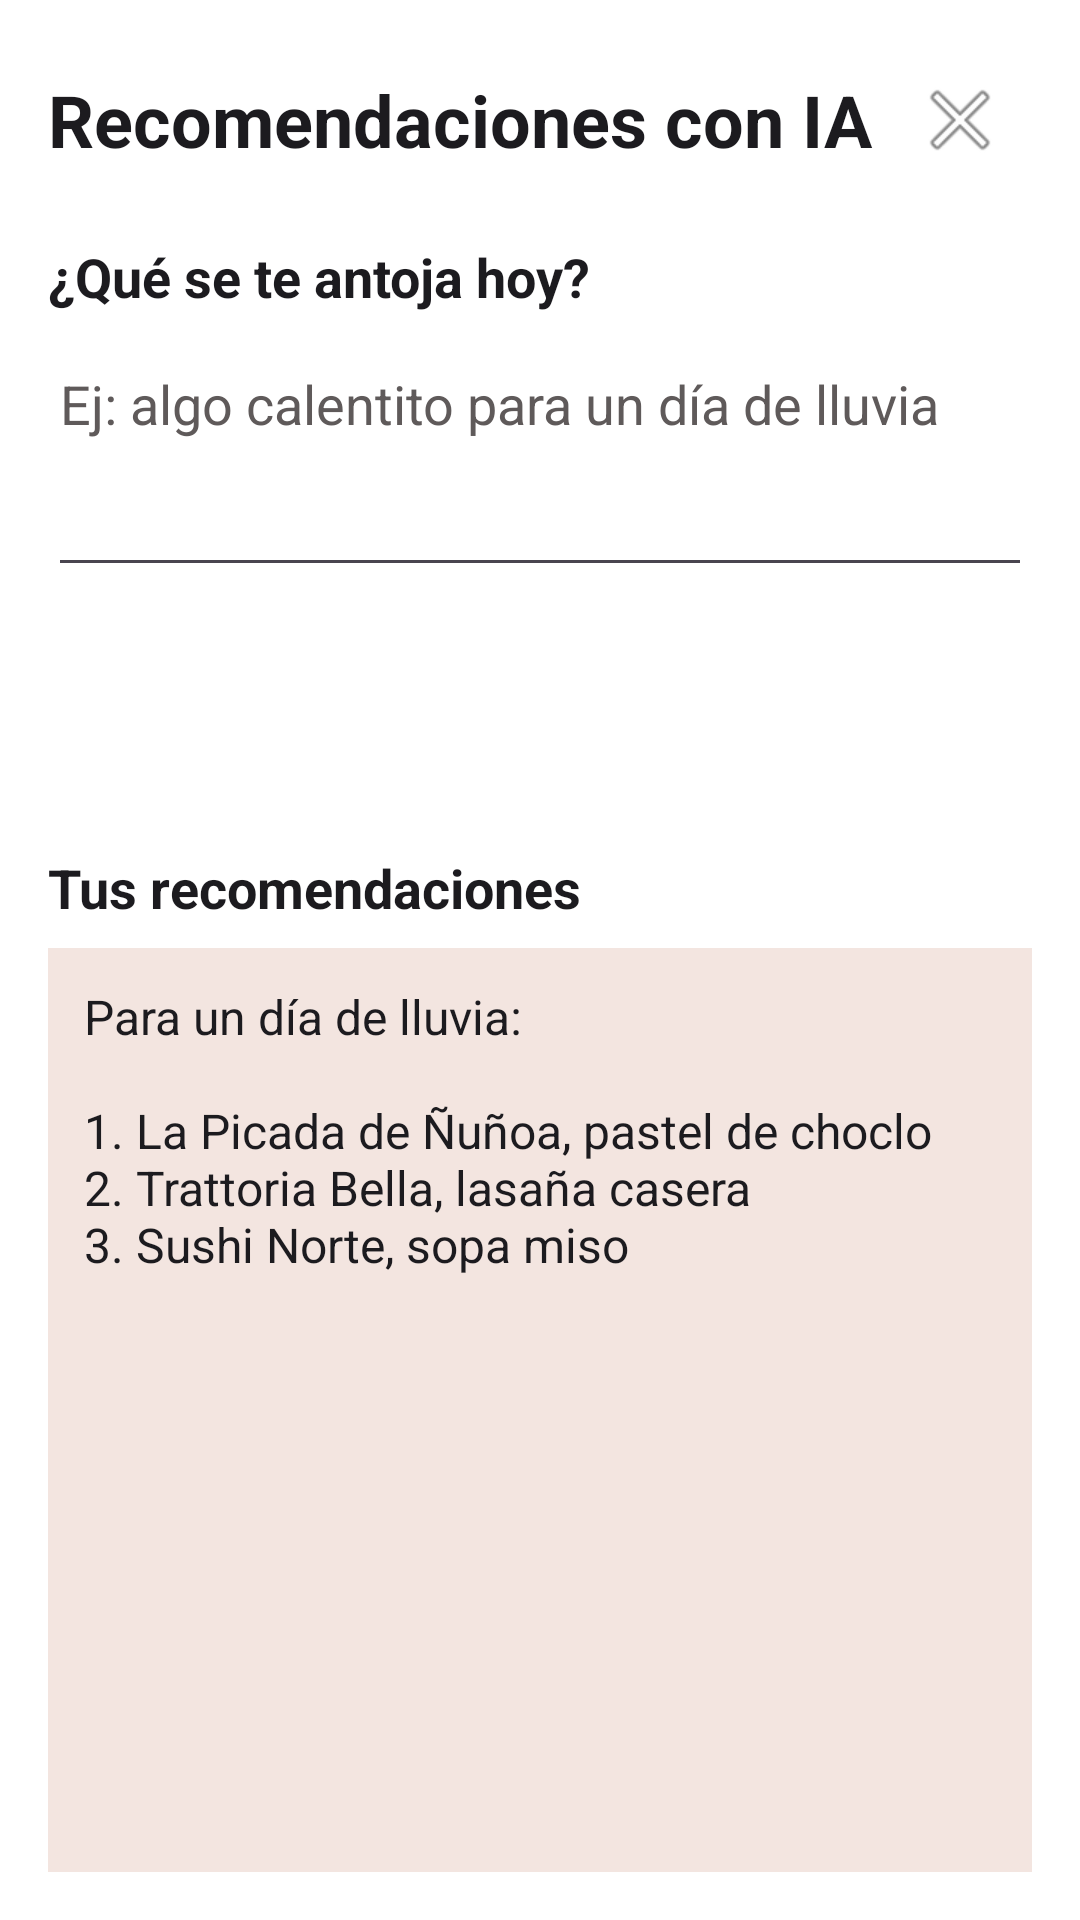

Icons on this 1080x1920 Android screen, each with the point to tap as point (x, y):
Volver: point (960, 120)
